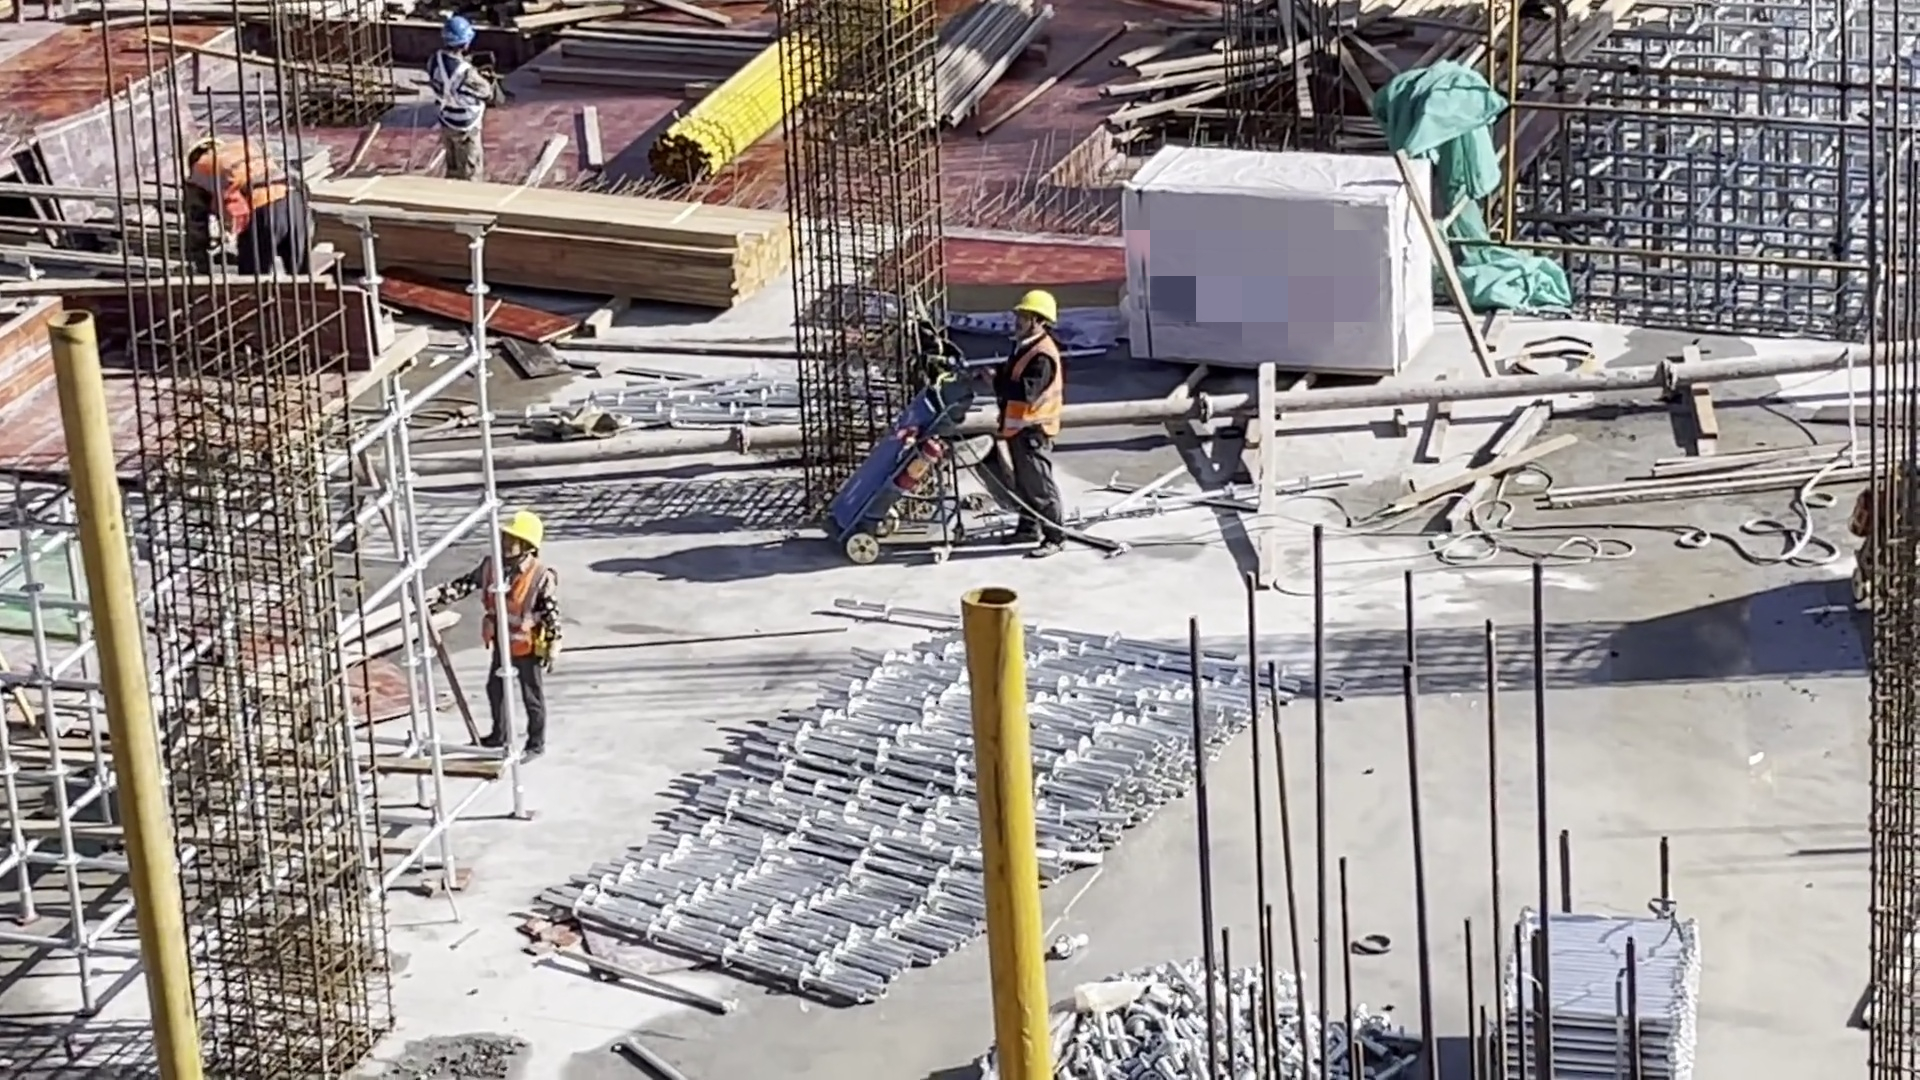helmet: (494, 512, 546, 547), (1014, 284, 1059, 323), (441, 21, 473, 45)
person: (422, 515, 563, 760), (175, 141, 311, 274), (999, 287, 1064, 561), (423, 19, 499, 179)
scaffold: (537, 593, 1347, 1015), (1496, 907, 1704, 1080)
vest: (196, 145, 304, 225), (483, 557, 548, 653), (1002, 338, 1062, 442), (429, 54, 496, 134)
wood: (310, 175, 789, 308)
